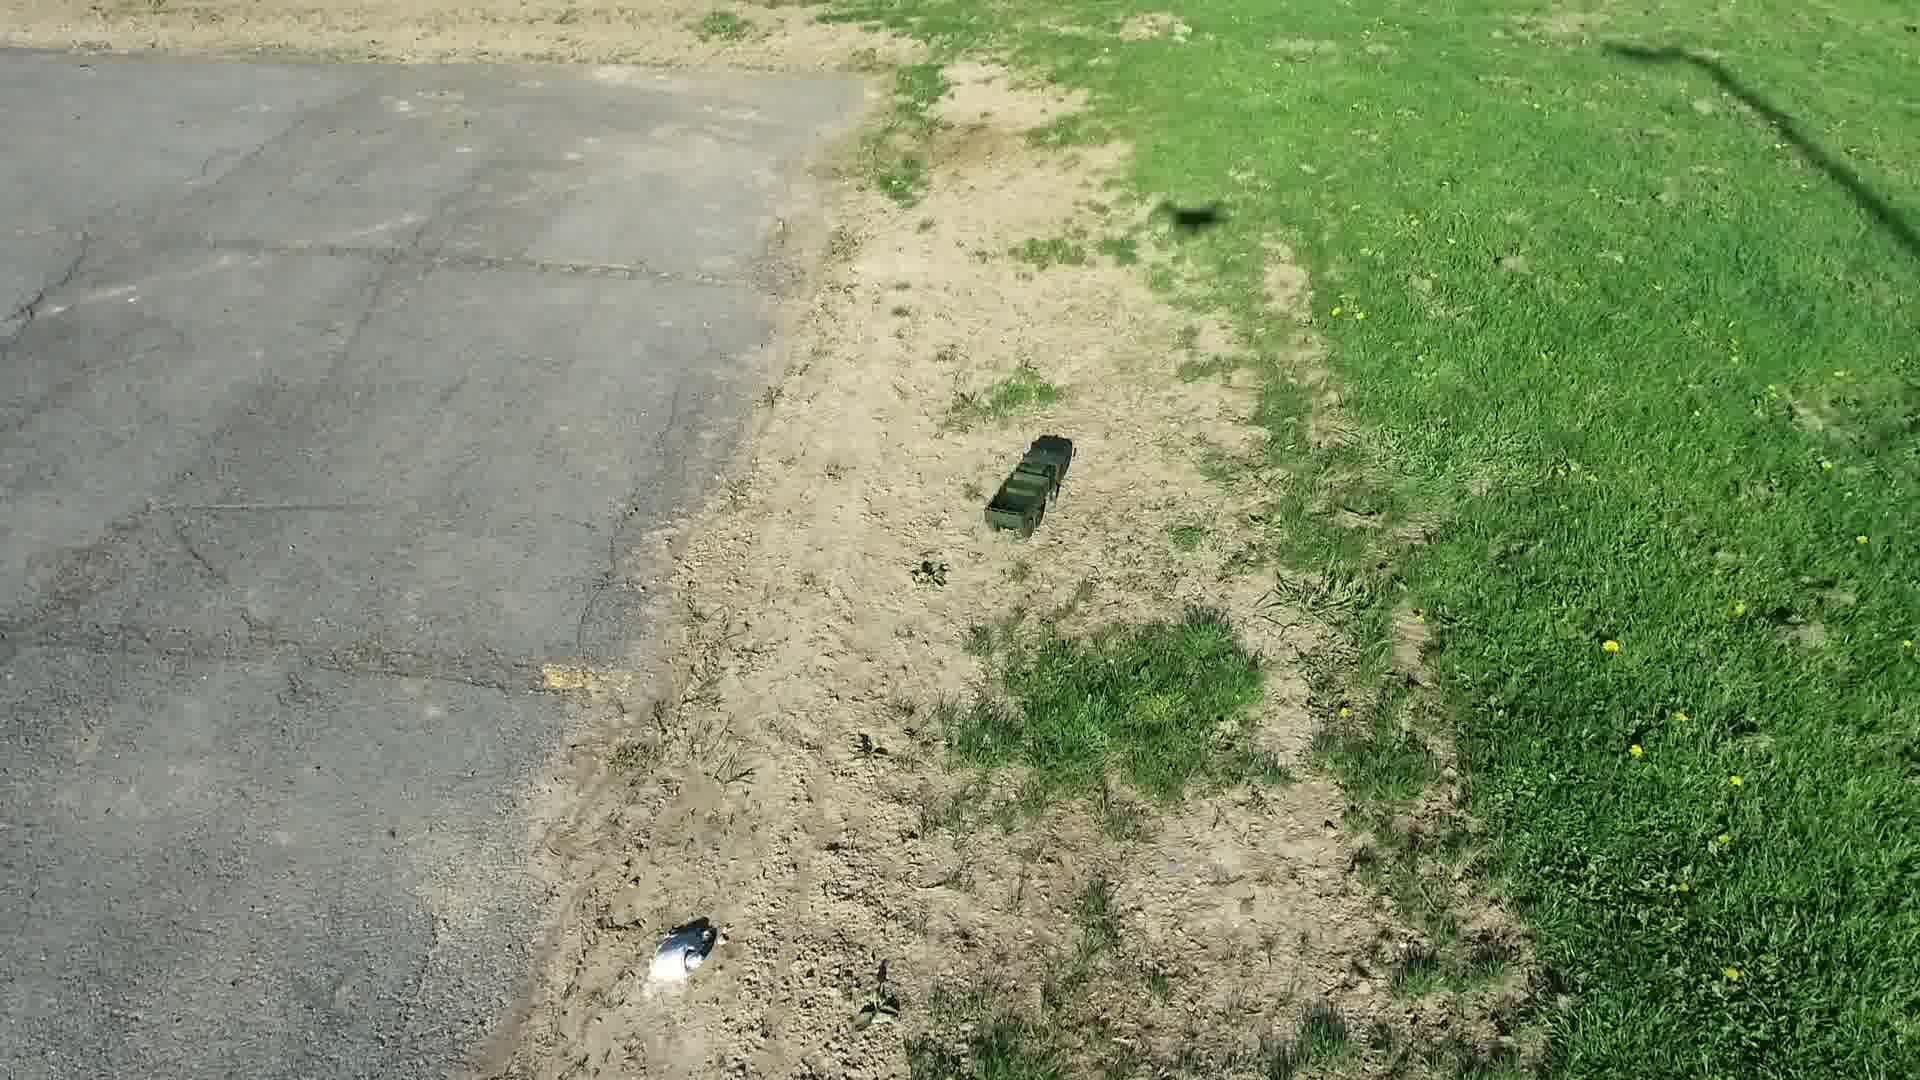transporter9: (957, 433, 1087, 545)
